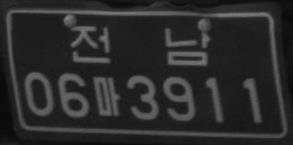0: (23, 70, 54, 117)
1: (237, 77, 267, 123), (200, 76, 229, 123)
3: (126, 74, 159, 119)
6: (57, 72, 89, 117)
9: (162, 75, 195, 121)
마: (92, 76, 120, 117)
전남_D: (69, 25, 211, 65)
